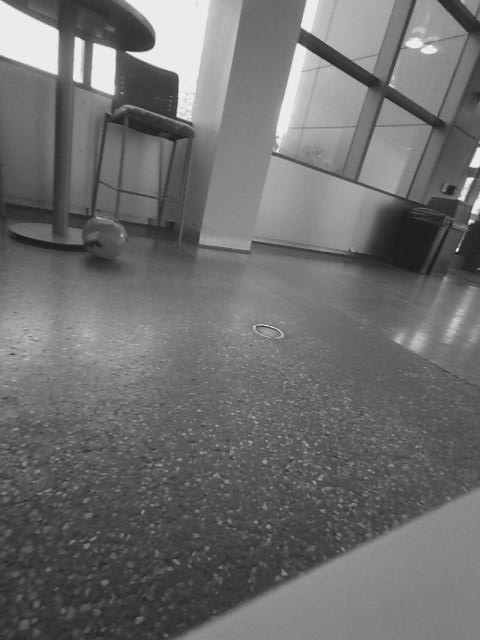ball: (79, 213, 131, 260)
